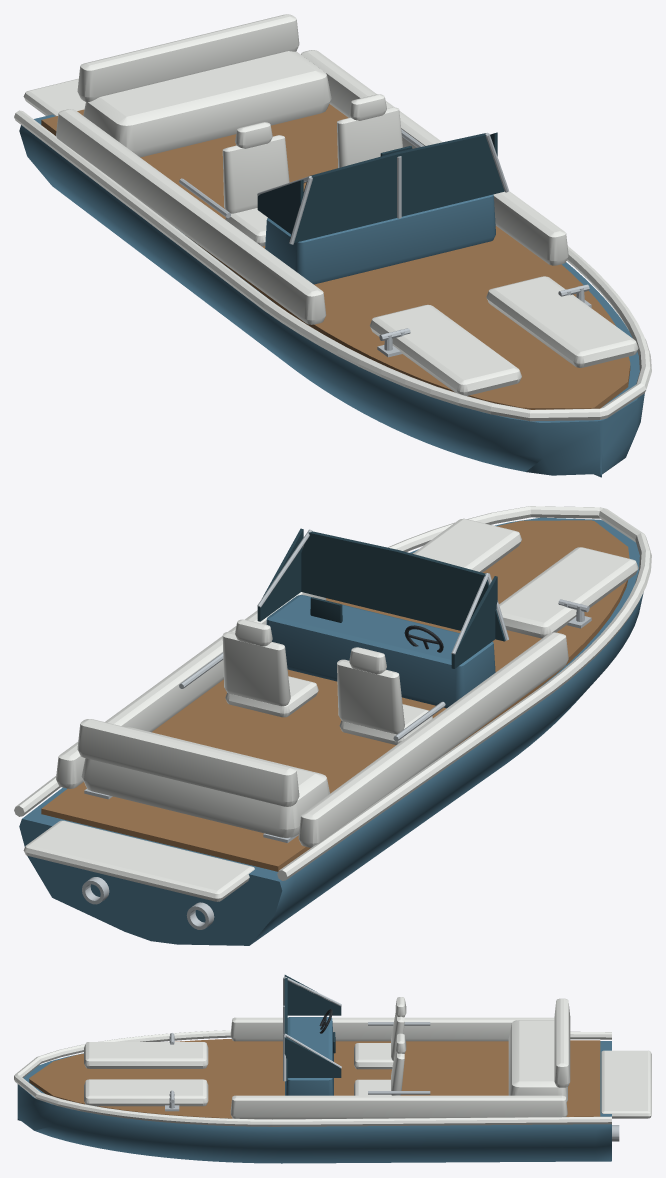
The model's file is 1-transport-collection-hd-sport-runabout-5b288a58.glb.
3 renders of one model, top to bottom at view 1: azimuth 30°, elevation 25°; view 2: azimuth 150°, elevation 25°; view 3: azimuth 270°, elevation 25°, orthographic. The views are drawn at different scales.
Parts seen in each view (by area): view 1: sport-runabout; view 2: sport-runabout; view 3: sport-runabout.
Boxes of the visible parts, x1=… form: sport-runabout: x1=14, y1=14, x2=651, y2=477; sport-runabout: x1=14, y1=506, x2=651, y2=945; sport-runabout: x1=14, y1=975, x2=651, y2=1163.
Size of the model in its own units: 2.49 by 1.72 by 7.19.
